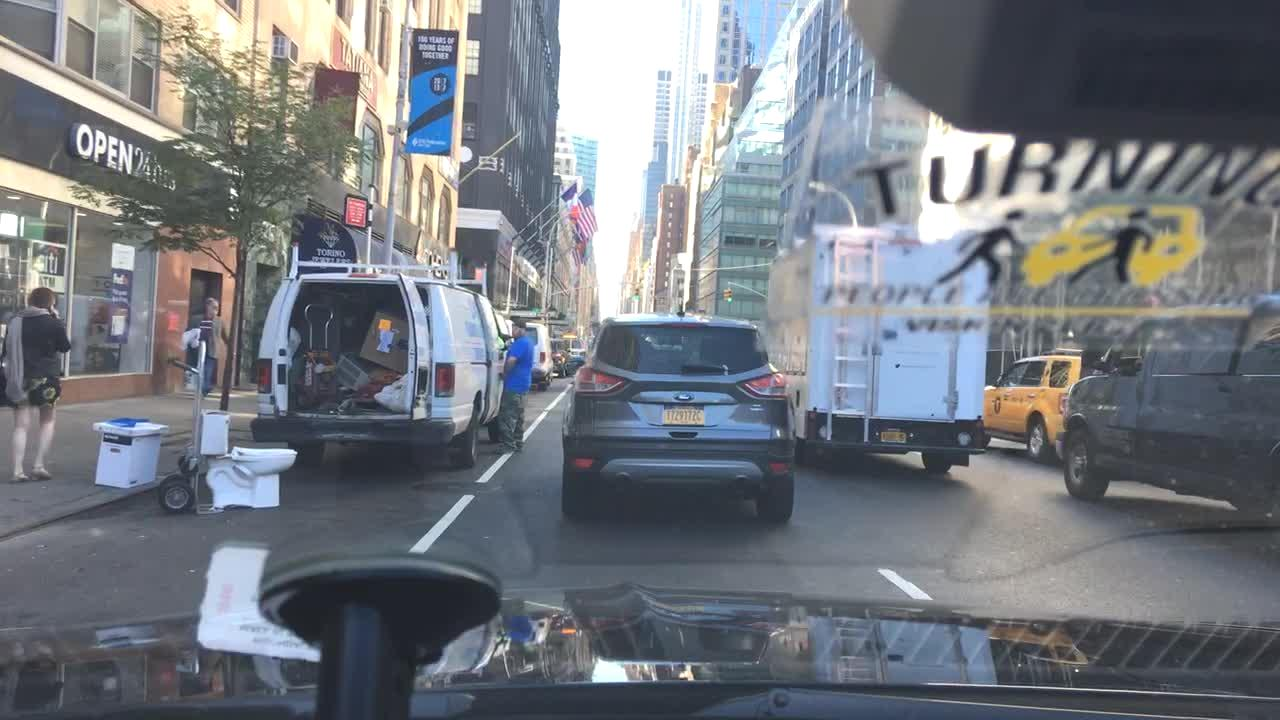ford: (671, 387, 697, 403)
